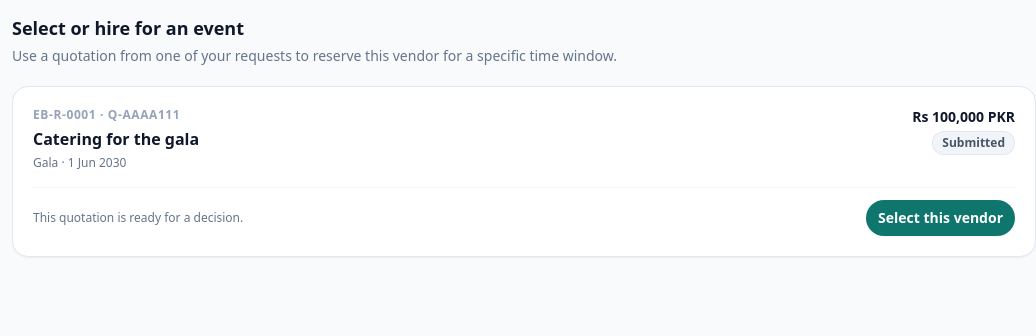
Test: VendorHireOptions › lets a society select this vendor from the profile
The image size is (1036, 336).
Check: the heading "Select or hire for an event" is shown, box top-left (12, 16), bottom-right (244, 40)
Step 1. Click the button "Select this vendor" → (941, 218), box top-left (866, 200), bottom-right (1015, 236)
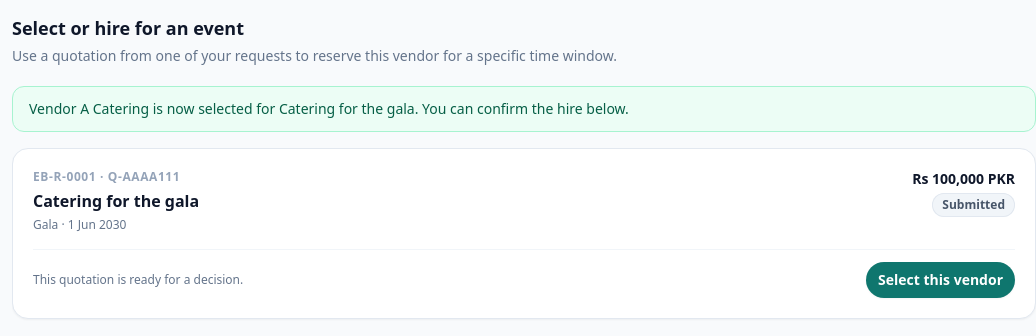
Check: the text "now selected for Catering for the gala" is shown, box top-left (29, 99), bottom-right (629, 118)
